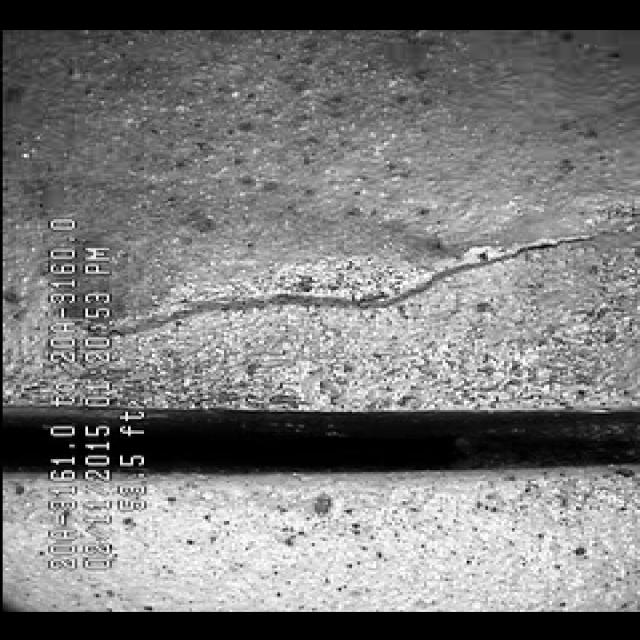Crack: (150, 228, 546, 356)
